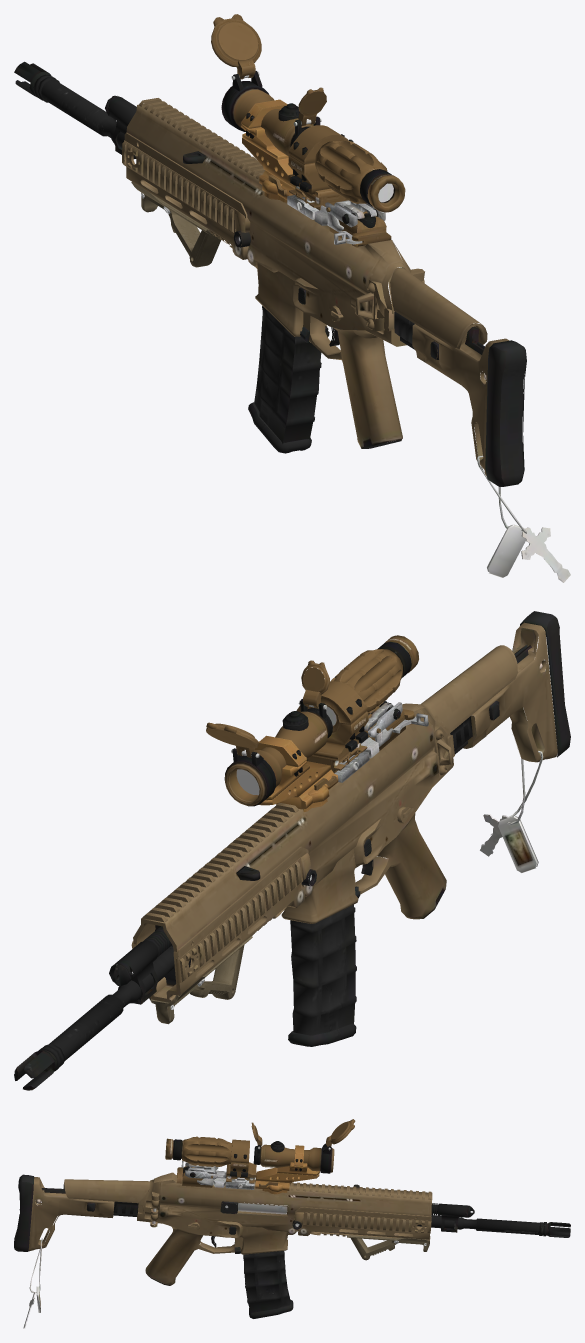
The model's file is gun-desert.glb.
3 renders of one model, top to bottom at view 1: azimuth 30°, elevation 25°; view 2: azimuth 150°, elevation 25°; view 3: azimuth 270°, elevation 25°, orthographic. The views are drawn at different scales.
Parts seen in each view (by area): view 1: Object_4, Object_2, Object_7; view 2: Object_4, Object_2, Object_7; view 3: Object_4, Object_2, Object_7.
Part boxes in pixels (x1,y1,x2,y2): Object_4: [14, 61, 570, 582]; Object_2: [211, 14, 405, 247]; Object_7: [131, 182, 220, 267]; Object_4: [14, 611, 570, 1090]; Object_2: [206, 635, 428, 812]; Object_7: [149, 936, 252, 1024]; Object_4: [14, 1172, 570, 1328]; Object_2: [165, 1119, 355, 1194]; Object_7: [347, 1235, 430, 1260].
Size of the model in its own units: 0.1074 by 0.3965 by 0.9998.
Materials: 3 (3 with a texture image).
